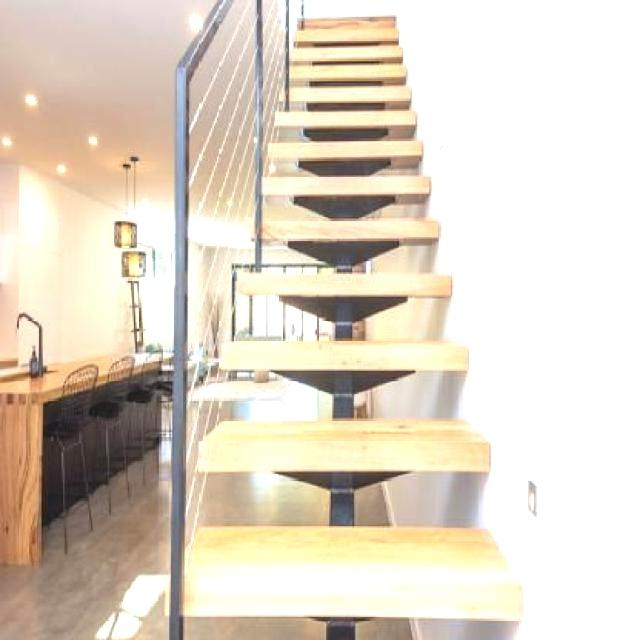stair: (138, 3, 530, 628)
